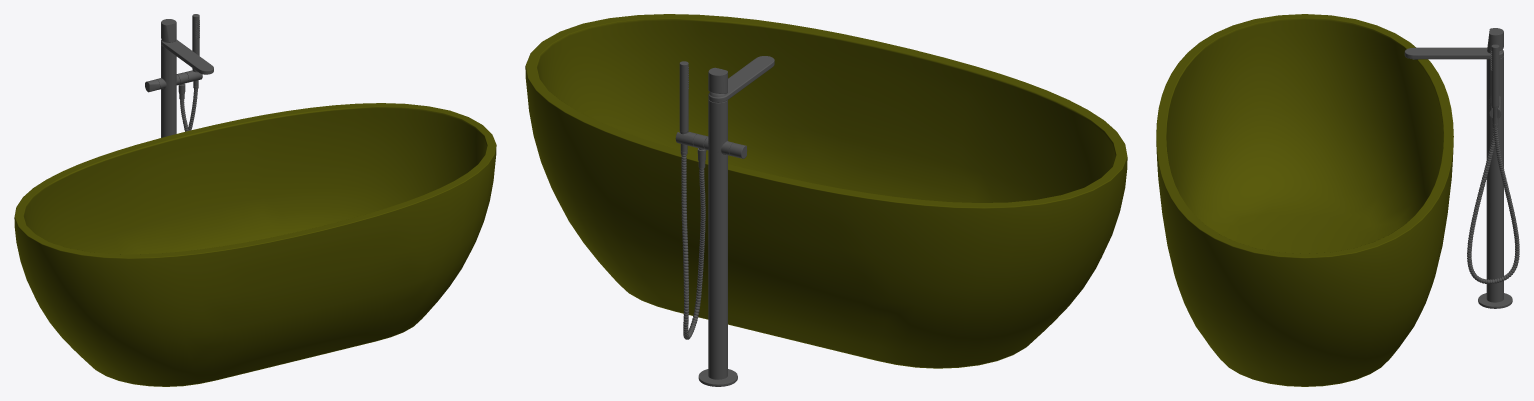
File: Bath.fbx
3 views of the same model, side by side, from view 1: azimuth 30°, elevation 25°; view 2: azimuth 150°, elevation 25°; view 3: azimuth 270°, elevation 25° (orthographic). The views are drawn at different scales.
Visible parts, largest first — view 1: Bath; view 2: Bath; view 3: Bath.
Boxes of the visible parts, left/top/right/bottom form: Bath: left=14, top=14, right=496, bottom=386; Bath: left=525, top=14, right=1127, bottom=386; Bath: left=1156, top=14, right=1519, bottom=386.
Bounding box in the file's own units: 167 × 86.2 × 105.
